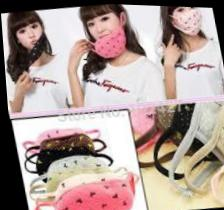OK: (172, 6, 208, 38)
WRONG: (86, 11, 122, 50), (14, 19, 47, 50)
